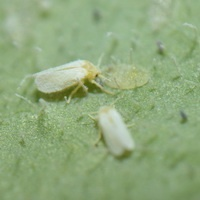insect: (18, 60, 148, 103), (97, 107, 134, 157)
